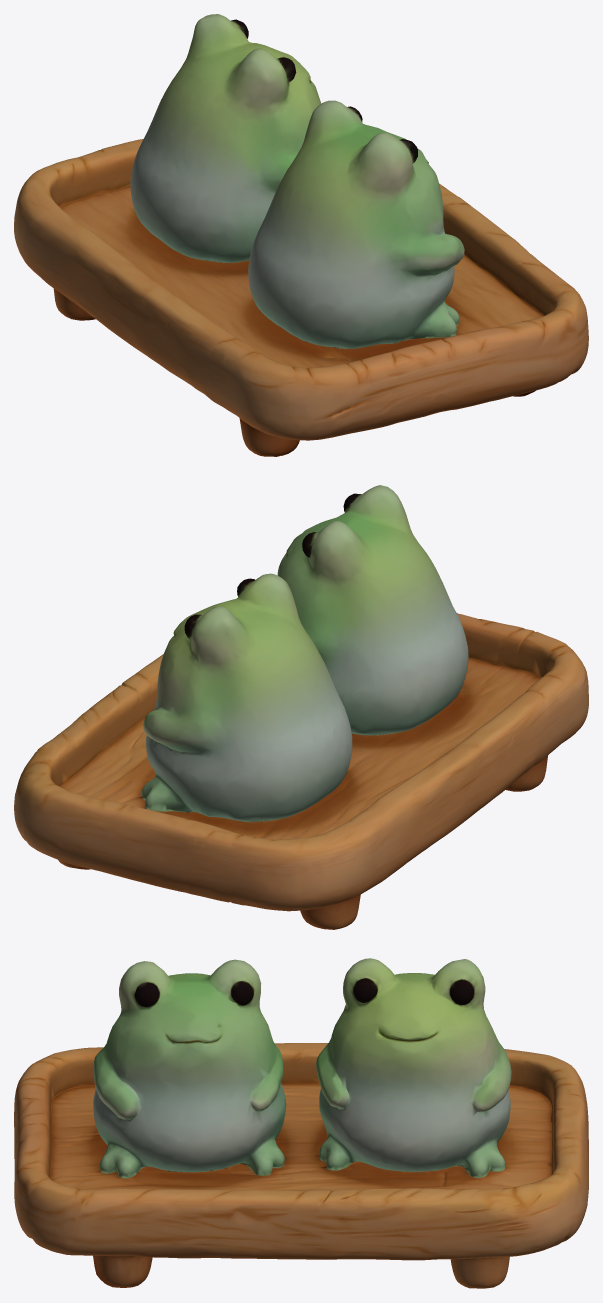
File: discovery-toad-v2.glb
3 renders of one model, top to bottom at view 1: azimuth 30°, elevation 25°; view 2: azimuth 150°, elevation 25°; view 3: azimuth 270°, elevation 25°, orthographic. The views are drawn at different scales.
Visible parts, largest first — view 1: tripo_node_b94a44f6-8848-4ef6-afee-9b4f41c98a54; view 2: tripo_node_b94a44f6-8848-4ef6-afee-9b4f41c98a54; view 3: tripo_node_b94a44f6-8848-4ef6-afee-9b4f41c98a54.
Boxes of the visible parts, bbox=[...] form: tripo_node_b94a44f6-8848-4ef6-afee-9b4f41c98a54: bbox=[14, 14, 588, 456]; tripo_node_b94a44f6-8848-4ef6-afee-9b4f41c98a54: bbox=[14, 485, 588, 929]; tripo_node_b94a44f6-8848-4ef6-afee-9b4f41c98a54: bbox=[14, 958, 588, 1288].
Bounding box in the file's own units: 0.664 × 0.5052 × 1.
1 material, 1 textured.
